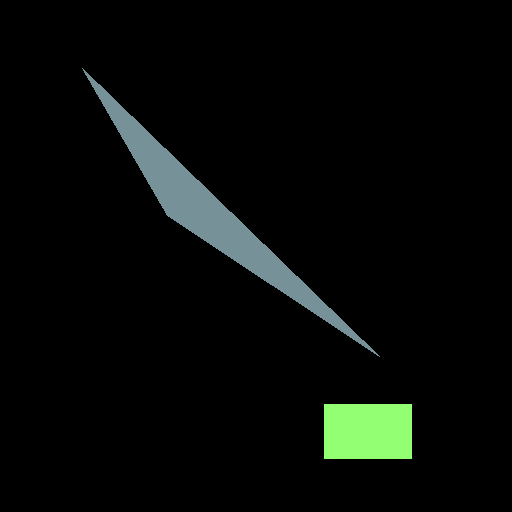rectangle: (324, 404, 411, 458)
triangle: (82, 68, 379, 356)
